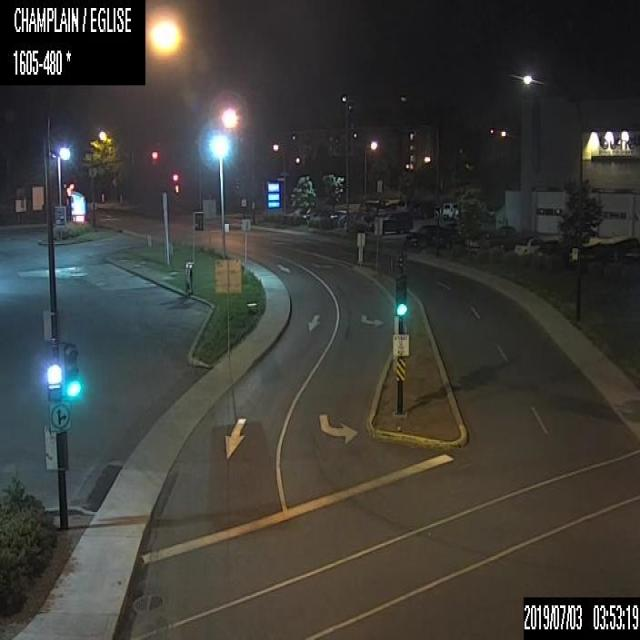vehicle: (405, 223, 452, 251), (370, 211, 413, 232), (490, 224, 517, 252), (534, 238, 562, 262), (465, 230, 493, 252), (514, 234, 542, 255), (329, 208, 348, 224), (294, 205, 316, 218), (441, 201, 458, 217), (396, 199, 413, 213), (358, 199, 378, 210)
